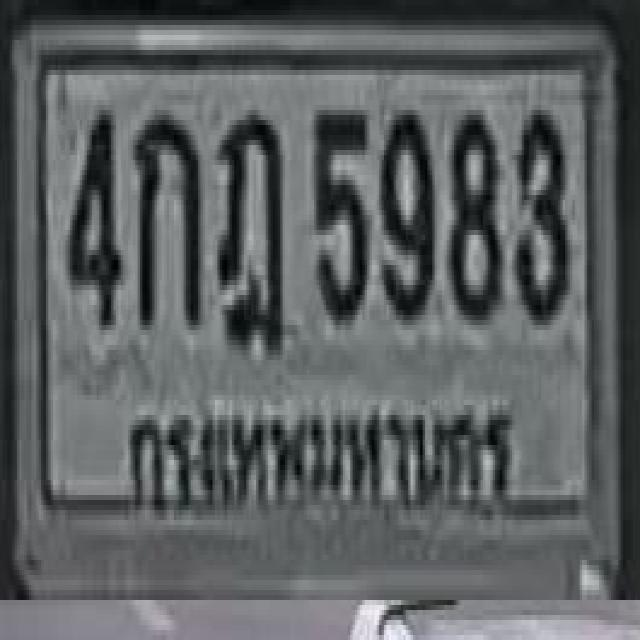license_plate: (17, 18, 624, 590)
